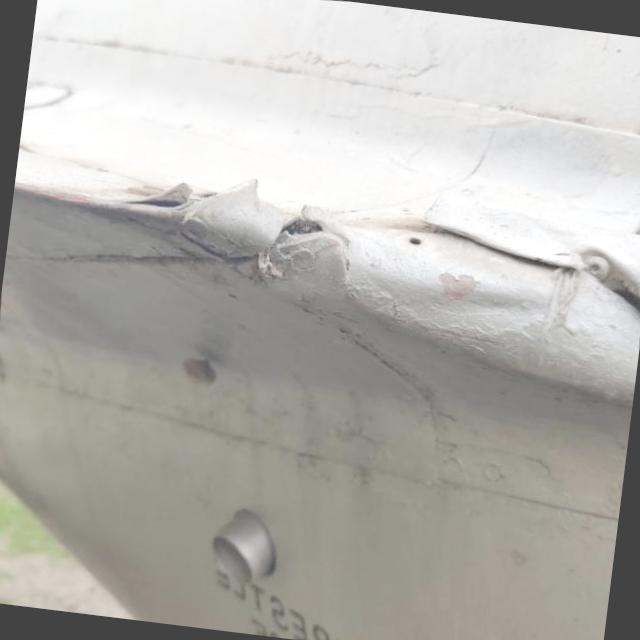Missing Fastener: (394, 228, 432, 254)
